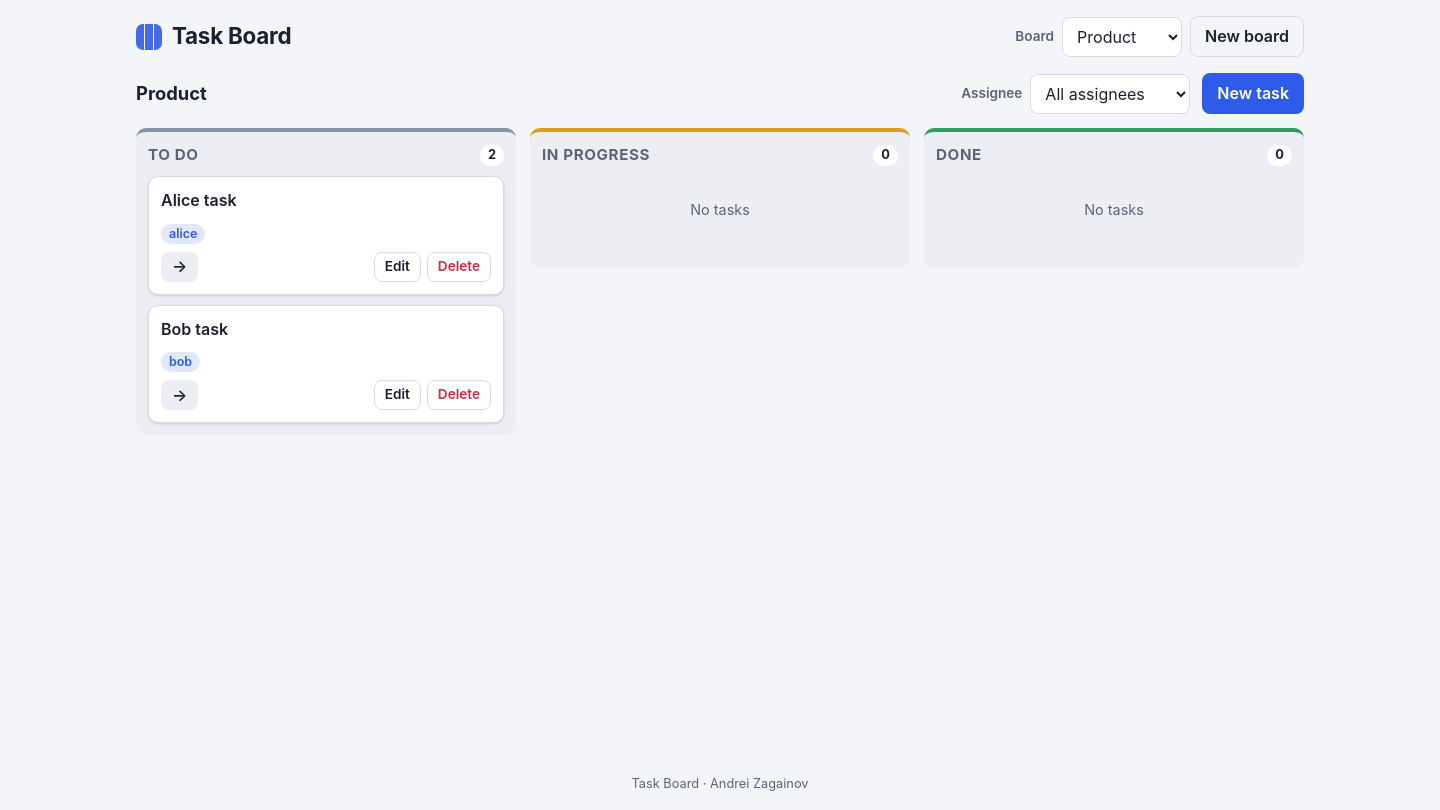
Test: App › filters tasks by assignee
Expected: the heading "Bob task" is shown, [161,319,228,339]
Select "alice" in the dropdown labelled "Assignee" at (1110, 94), box [1030,74,1190,114]
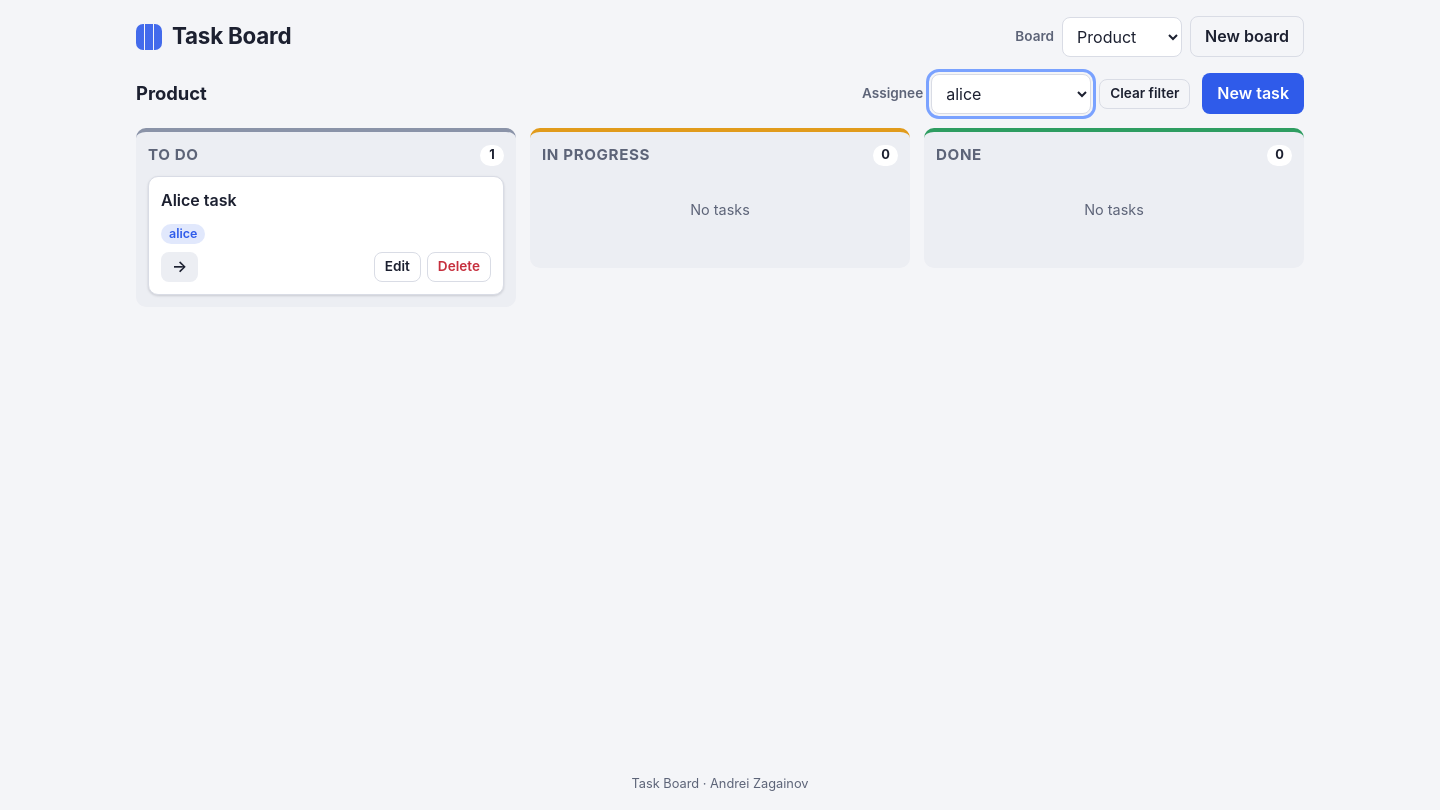
Expected: the heading "Alice task" is shown, [161,190,237,210]
Now the heading "Bob task" is gone
Click the button "Clear filter" at (1145, 94), box [1099,79,1190,109]
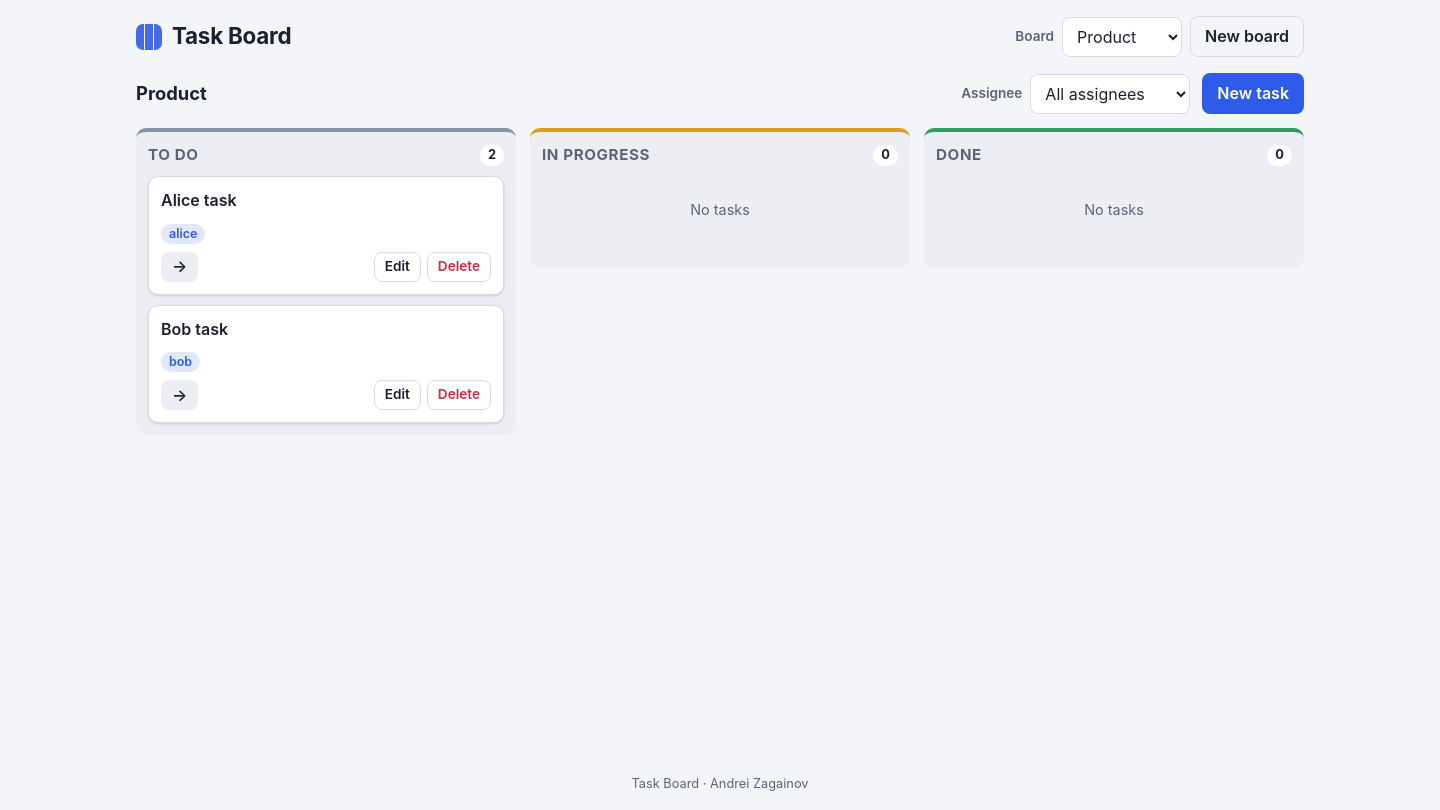
Now the heading "Bob task" is shown, box [161,319,228,339]
